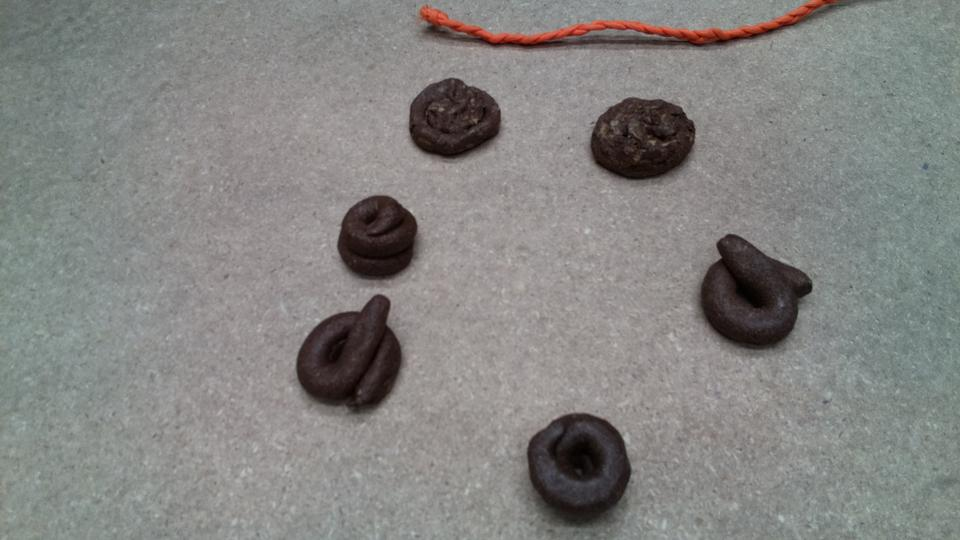poop: (697, 231, 817, 352), (294, 291, 409, 414), (525, 410, 635, 524), (586, 95, 698, 184), (404, 75, 505, 159), (335, 192, 422, 282)
rope: (416, 1, 831, 56)
